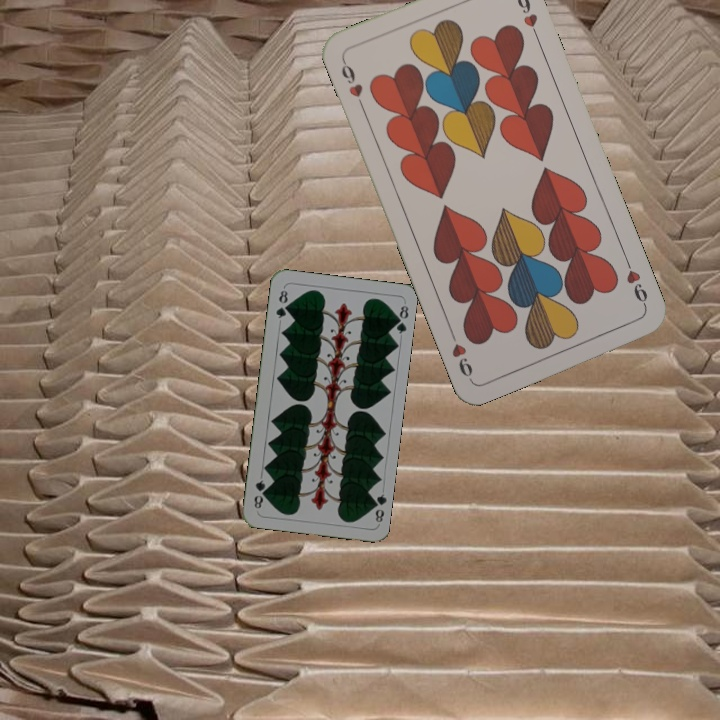G8: (367, 490, 389, 527), (272, 286, 291, 321)
H9: (337, 55, 367, 112), (621, 254, 651, 311)
